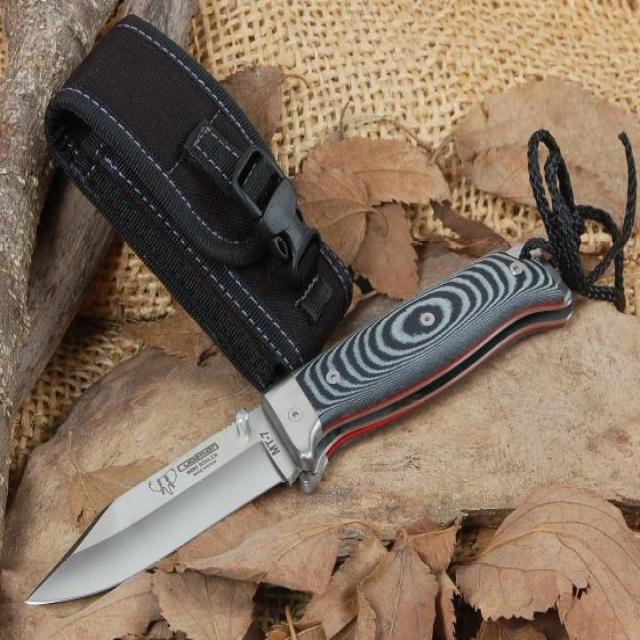knife: (23, 236, 594, 633)
